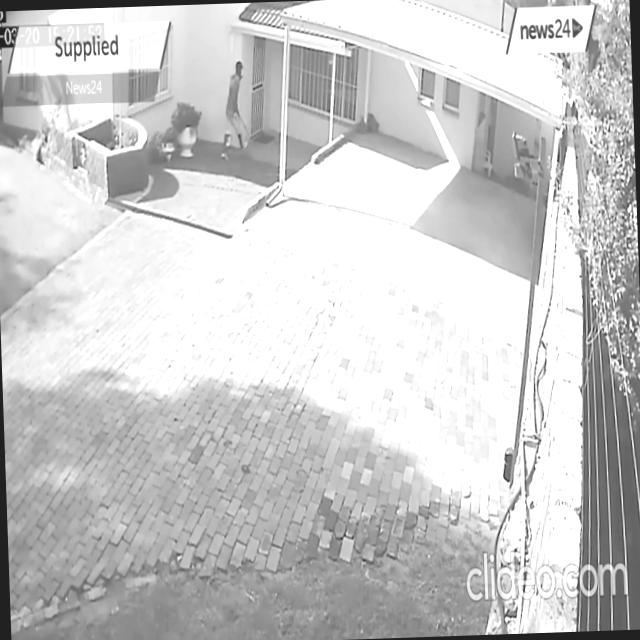weapon: (214, 54, 254, 170)
